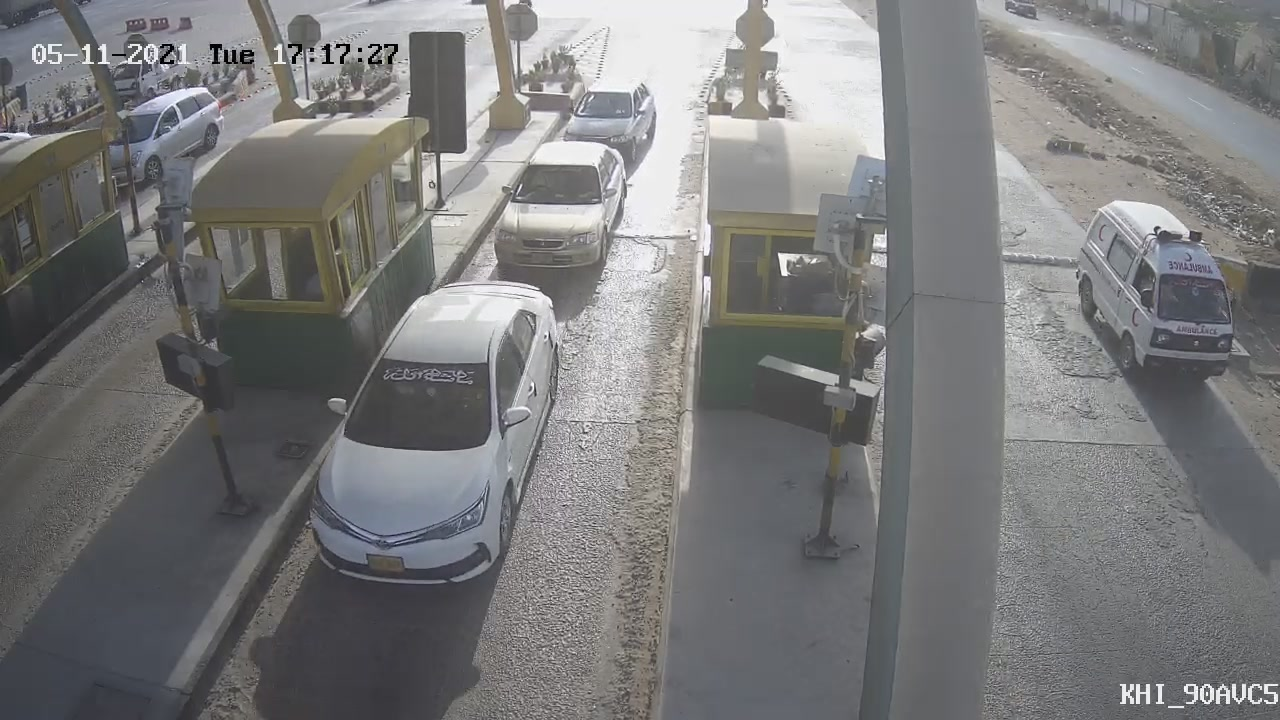F1: (281, 259, 586, 608), (477, 127, 640, 288)
